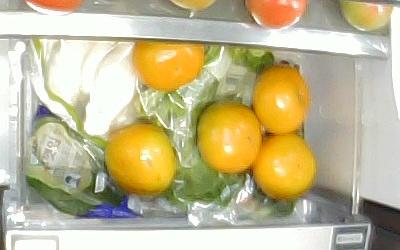persimmon: (106, 124, 176, 196), (196, 100, 263, 174), (252, 132, 316, 201), (251, 66, 310, 135), (132, 41, 204, 93)
